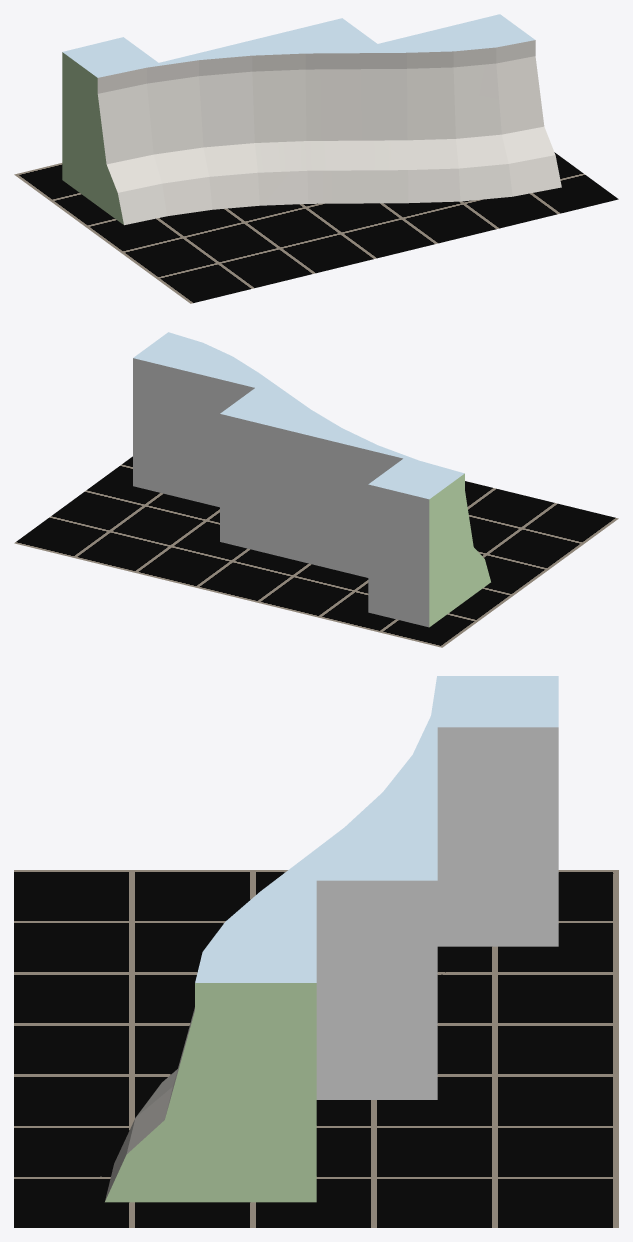
File: Wall_Esse_4x6_Base.glb
3 views of the same model, one above another, from view 1: azimuth 30°, elevation 25°; view 2: azimuth 150°, elevation 25°; view 3: azimuth 270°, elevation 25° (orthographic). The views are drawn at different scales.
Visible parts, largest first — view 1: Wall_Esse_4x6_Base, Floor; view 2: Wall_Esse_4x6_Base, Floor; view 3: Floor, Wall_Esse_4x6_Base.
Boxes of the visible parts, <box> form: Wall_Esse_4x6_Base: <box>62,14,561,225</box>; Floor: <box>14,152,618,303</box>; Wall_Esse_4x6_Base: <box>133,332,490,627</box>; Floor: <box>14,456,618,647</box>; Floor: <box>14,870,618,1227</box>; Wall_Esse_4x6_Base: <box>105,676,558,1202</box>.
Bounding box in the file's own units: 700 × 200 × 500.
5 materials, 1 textured.
